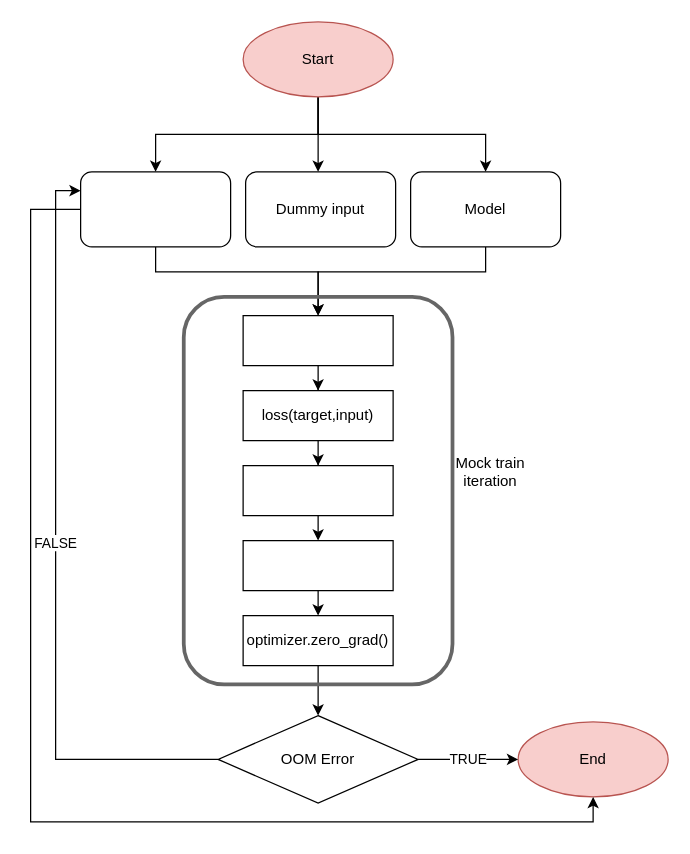
Some shapes in this 690 by 854 pixel diagram are drawn without their labels. The box of each missing label's shape, as (x1, y1, x2, y2) in pixels:
batchsize = 2: (79, 171, 231, 247)
loss.backward(): (242, 464, 393, 516)
model(input): (242, 314, 393, 366)
optimizer.step(): (242, 539, 393, 591)
